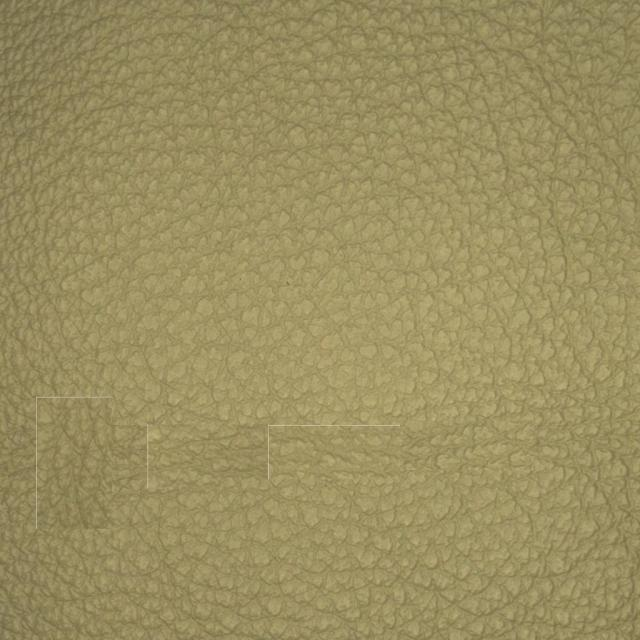Healed Injury: (31, 367, 165, 552), (268, 398, 438, 510)
